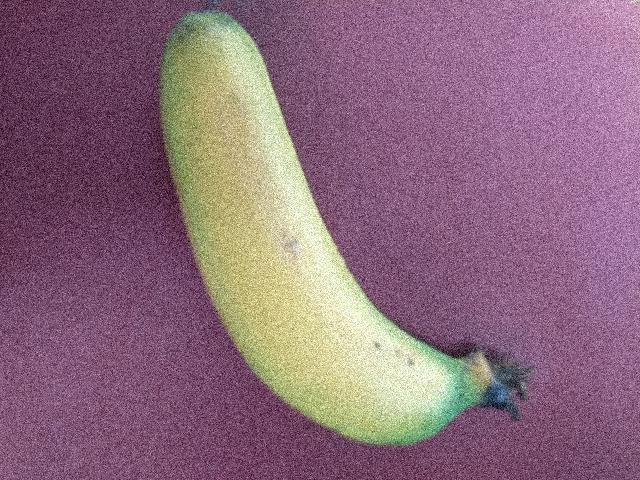freshripe: (138, 12, 502, 444)
